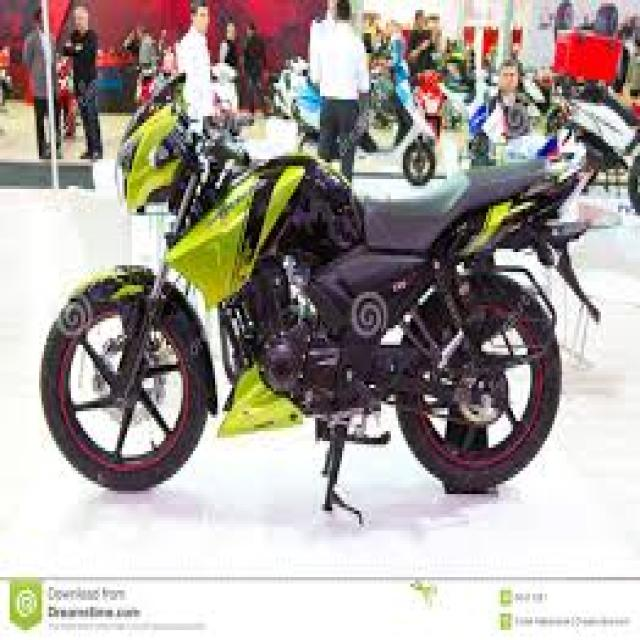bike: (53, 74, 582, 472)
